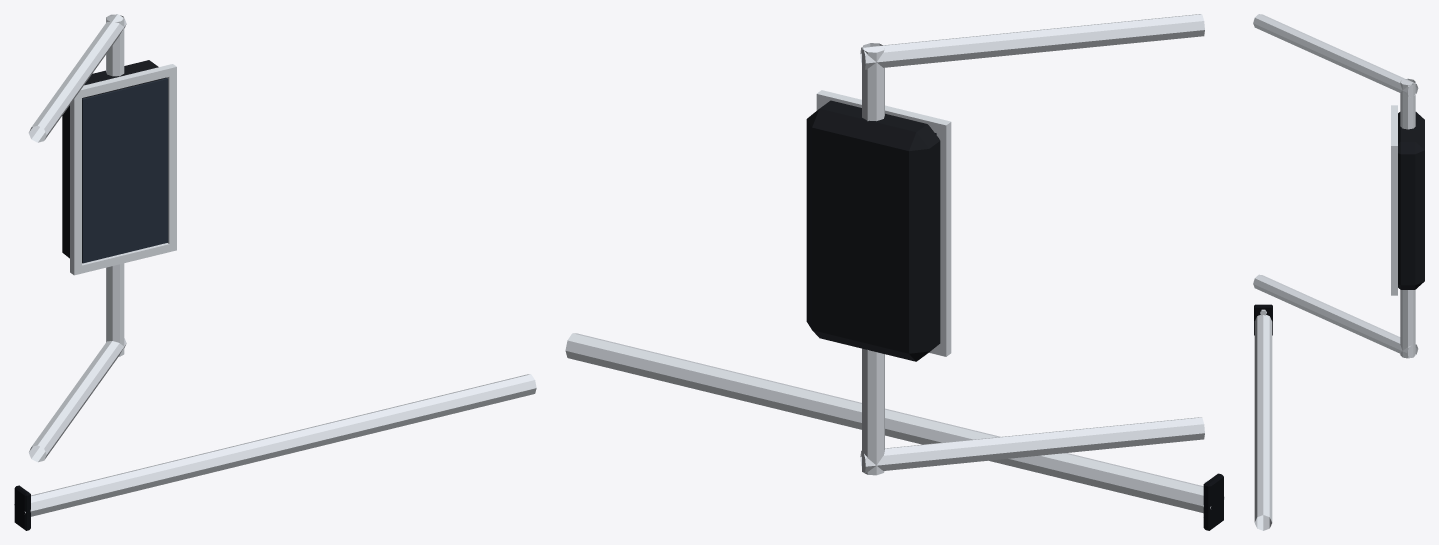
File: mirror_stay_l.glb
The picture shows the model from 3 angles, left to right: view 1: azimuth 30°, elevation 25°; view 2: azimuth 150°, elevation 25°; view 3: azimuth 270°, elevation 25°; orthographic projection. The views are drawn at different scales.
Parts seen in each view (by area): view 1: mirror_stay_l_deco_mirror, mirror_stay_l_chrome, mirror_stay_l_PADS_chrome, mirror_stay_l_deco_body, mirror_stay_l_PADF_deco_trim; view 2: mirror_stay_l_deco_body, mirror_stay_l_chrome, mirror_stay_l_PADS_chrome, mirror_stay_l_PADF_deco_trim; view 3: mirror_stay_l_chrome, mirror_stay_l_deco_body, mirror_stay_l_PADS_chrome, mirror_stay_l_PADF_deco_trim.
Boxes of the visible parts, x1,y1,x2,y2 form: mirror_stay_l_deco_mirror: (82, 78, 168, 263); mirror_stay_l_chrome: (28, 14, 176, 462); mirror_stay_l_PADS_chrome: (14, 374, 536, 516); mirror_stay_l_deco_body: (62, 60, 165, 258); mirror_stay_l_PADF_deco_trim: (14, 485, 30, 530); mirror_stay_l_deco_body: (806, 100, 940, 361); mirror_stay_l_chrome: (816, 14, 1204, 475); mirror_stay_l_PADS_chrome: (565, 333, 1224, 513); mirror_stay_l_PADF_deco_trim: (1203, 473, 1223, 530); mirror_stay_l_chrome: (1253, 14, 1418, 358); mirror_stay_l_deco_body: (1398, 112, 1424, 289); mirror_stay_l_PADS_chrome: (1254, 315, 1272, 530); mirror_stay_l_PADF_deco_trim: (1254, 304, 1272, 335).
Size of the model in its own units: 1 by 0.748 by 0.3565.
